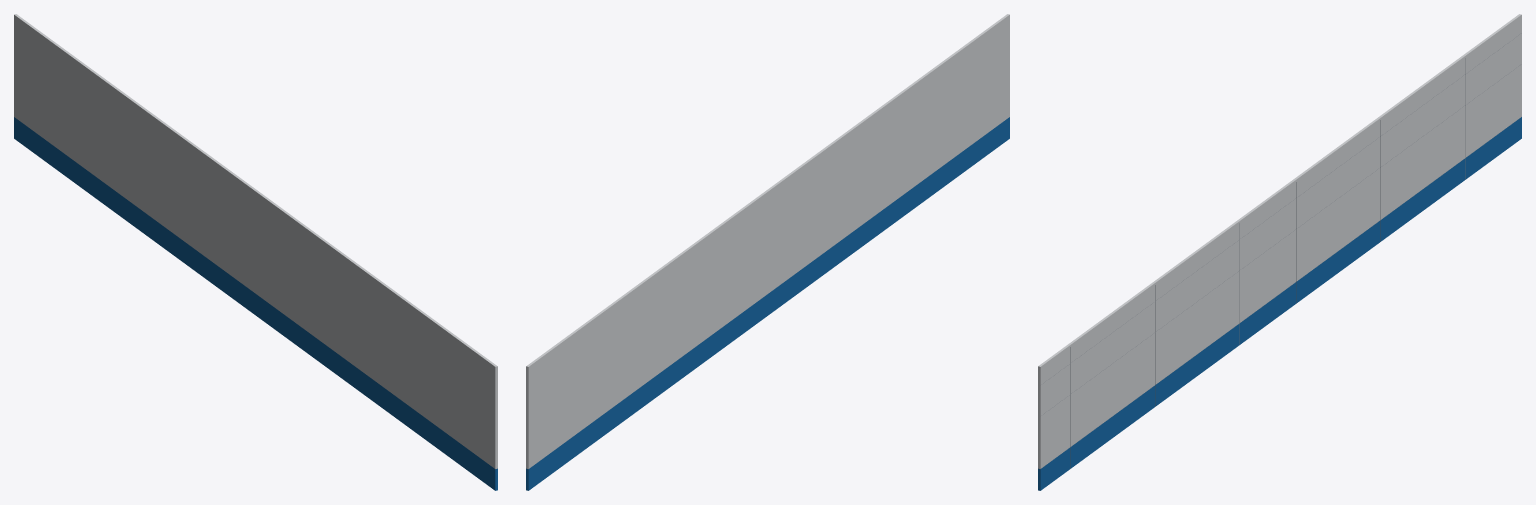
File: SM_MPR4_Facade_05.fbx
3 views of the same model, side by side, from view 1: azimuth 30°, elevation 25°; view 2: azimuth 150°, elevation 25°; view 3: azimuth 330°, elevation 25° (orthographic).
Parts seen in each view (by area): view 1: SM_MPR4_Facade_05; view 2: SM_MPR4_Facade_05; view 3: SM_MPR4_Facade_05.
Boxes of the visible parts, box(x1,y1,x2,y2) form: SM_MPR4_Facade_05: box(14, 14, 497, 490); SM_MPR4_Facade_05: box(526, 14, 1009, 490); SM_MPR4_Facade_05: box(1038, 14, 1521, 490).
Size of the model in its own units: 31.44 by 10409 by 1480.
